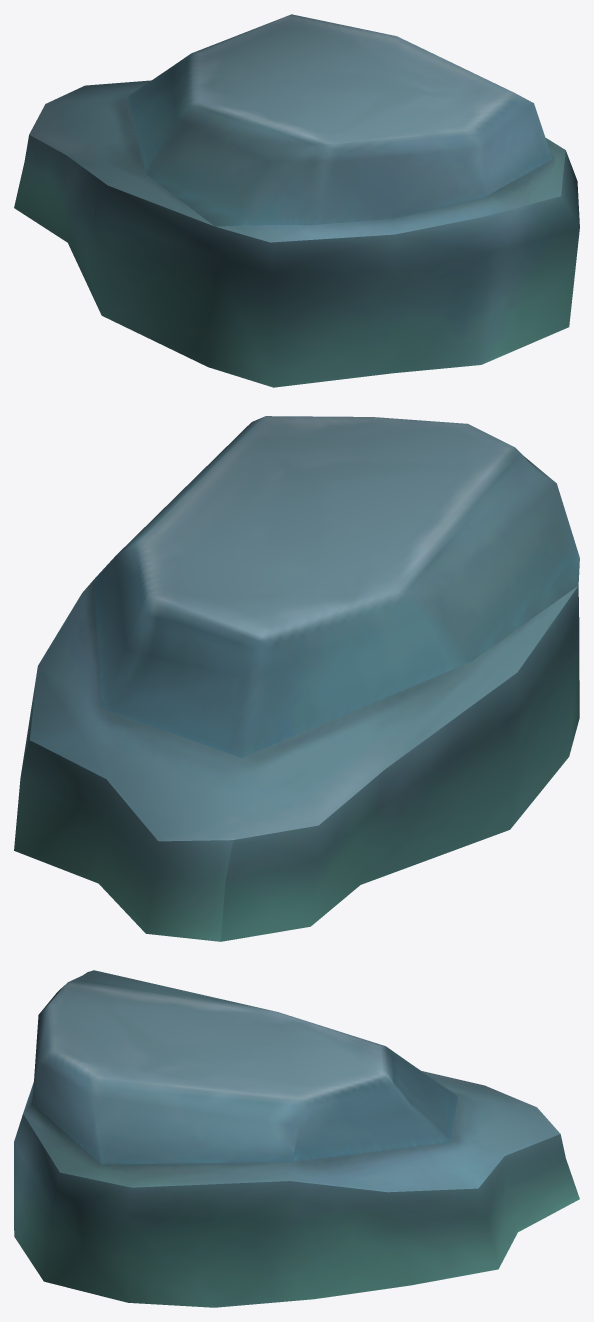
3 views of the same model, one above another, from view 1: azimuth 30°, elevation 25°; view 2: azimuth 150°, elevation 25°; view 3: azimuth 270°, elevation 25° (orthographic). The views are drawn at different scales.
Parts seen in each view (by area): view 1: TS_FaGuangSuiPian_01; view 2: TS_FaGuangSuiPian_01; view 3: TS_FaGuangSuiPian_01.
Part boxes in pixels (<box>): TS_FaGuangSuiPian_01: <box>14,14,579,387</box>; TS_FaGuangSuiPian_01: <box>14,416,579,941</box>; TS_FaGuangSuiPian_01: <box>14,970,579,1307</box>.
Size of the model in its own units: 0.1313 by 0.0706 by 0.1801.
1 material, 1 textured.
